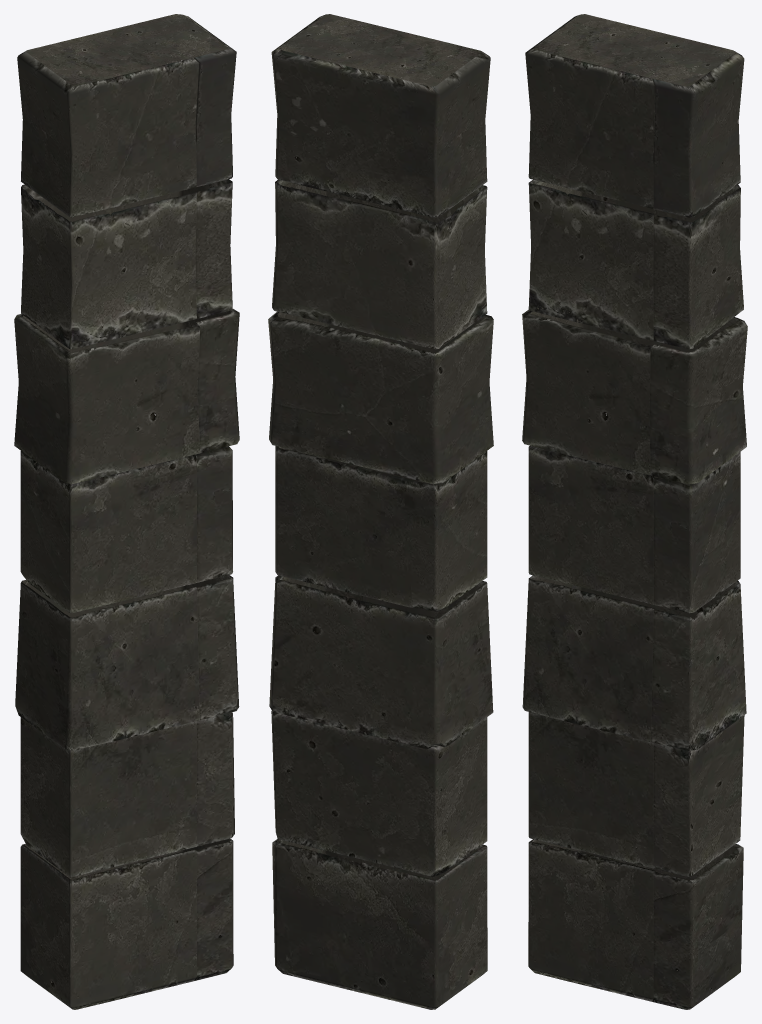
3 views of the same model, side by side, from view 1: azimuth 30°, elevation 25°; view 2: azimuth 150°, elevation 25°; view 3: azimuth 330°, elevation 25° (orthographic).
Visible parts, largest first — view 1: SM_Greathall_WallEnd_10m_LOD0; view 2: SM_Greathall_WallEnd_10m_LOD0; view 3: SM_Greathall_WallEnd_10m_LOD0.
Part boxes in pixels (<box>): SM_Greathall_WallEnd_10m_LOD0: <box>14,14,239,1009</box>; SM_Greathall_WallEnd_10m_LOD0: <box>268,14,493,1009</box>; SM_Greathall_WallEnd_10m_LOD0: <box>522,14,747,1009</box>.
Size of the model in its own units: 1.99 by 10 by 1.14.
Materials: 1 (1 with a texture image).
